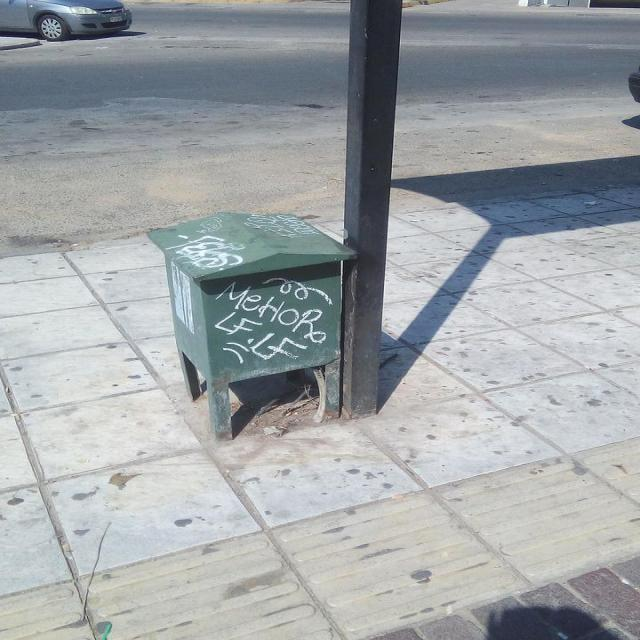nonspitting: (216, 277, 336, 364), (167, 233, 243, 270), (245, 214, 319, 238), (196, 216, 222, 234)
